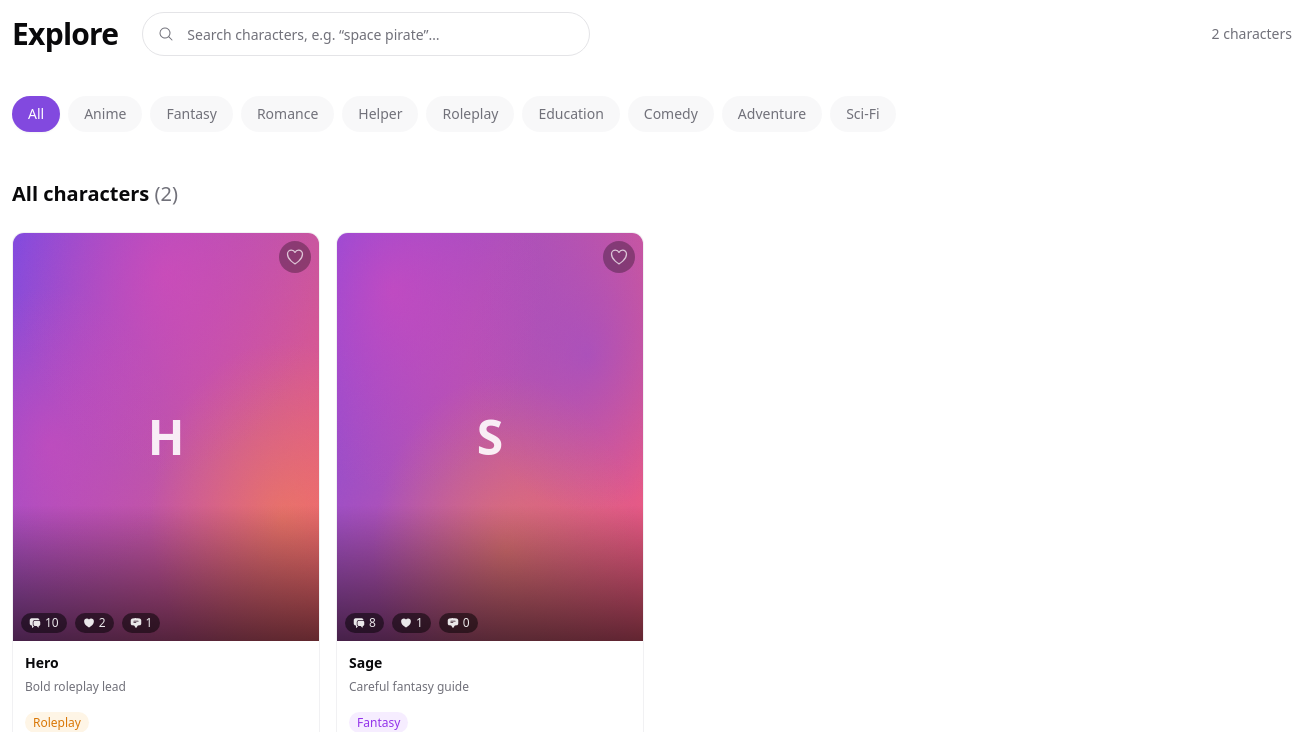
Test: ExploreClient › lets users clear filters after an empty result
Type "zzzz" into the search field labelled "Search characters, e.g. “space pirate”…". click: (366, 34)
box: [142,12,590,56]
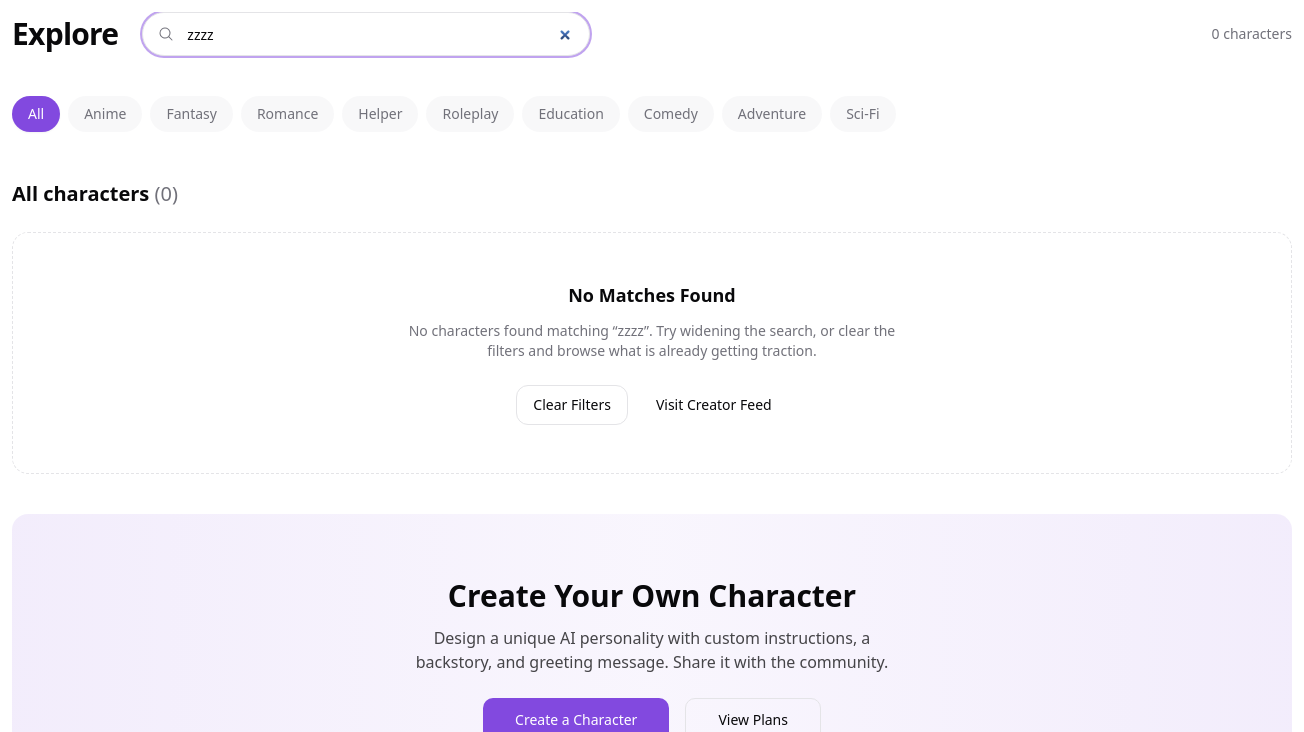
Now the button "Clear Filters" is shown
Click the button "Clear Filters". click: click(572, 405)
box: [516,385,628,425]
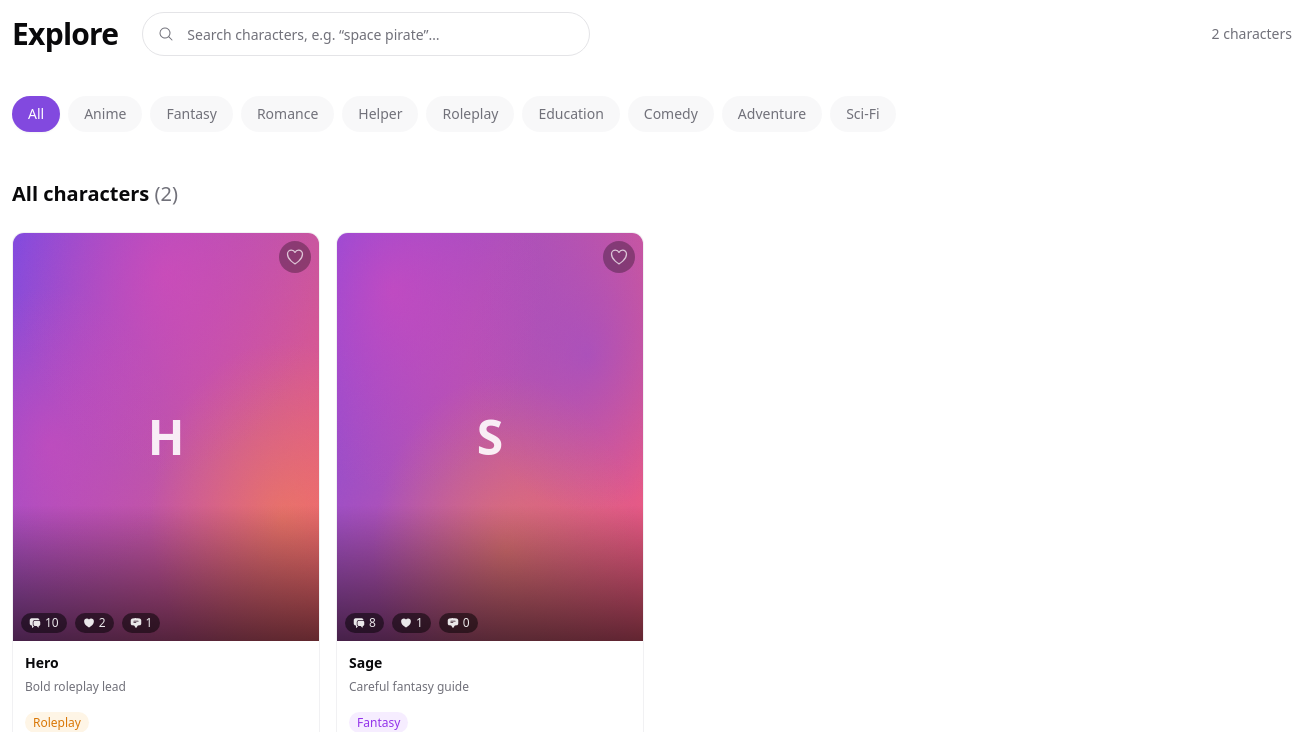
Now the search field labelled "Search characters, e.g. “space pirate”…" is empty, box [142,12,590,56]
Now the button "Clear Filters" is gone
